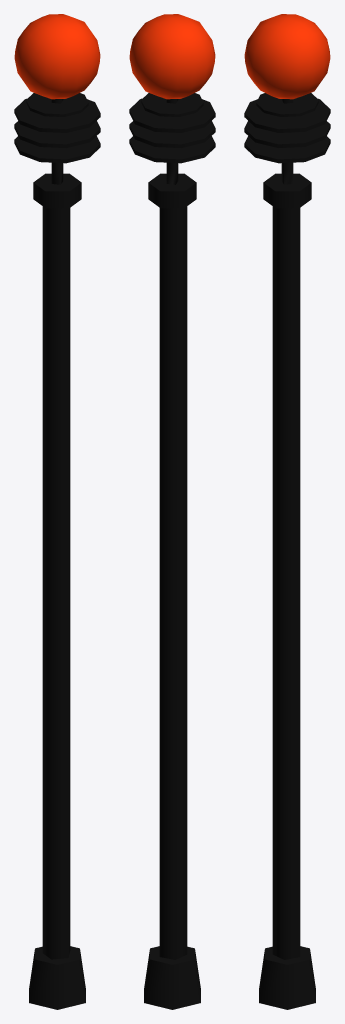
The model's file is post1.FBX.
3 views of the same model, side by side, from view 1: azimuth 30°, elevation 25°; view 2: azimuth 210°, elevation 25°; view 3: azimuth 330°, elevation 25° (orthographic).
Parts seen in each view (by area): view 1: post1; view 2: post1; view 3: post1.
Boxes of the visible parts, x1,y1,x2,y2 form: post1: (14, 14, 100, 1009); post1: (129, 14, 215, 1009); post1: (244, 14, 330, 1009).
Size of the model in its own units: 0.3321 by 4.13 by 0.326.
